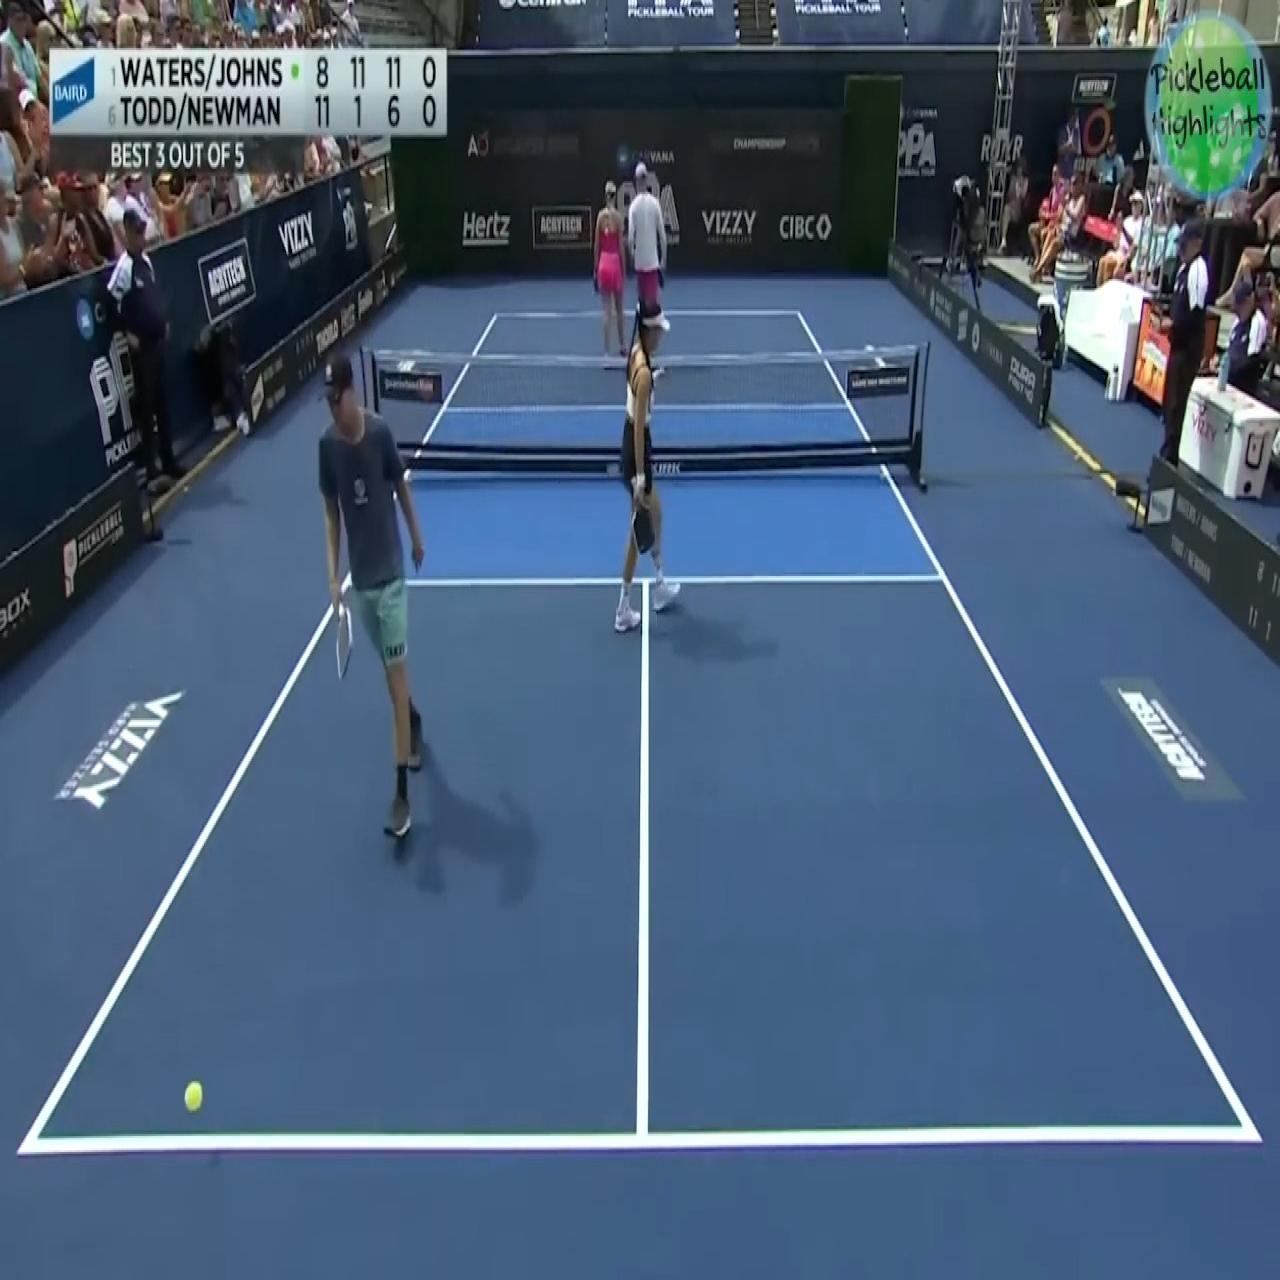Pickleball: (183, 1077, 203, 1115)
